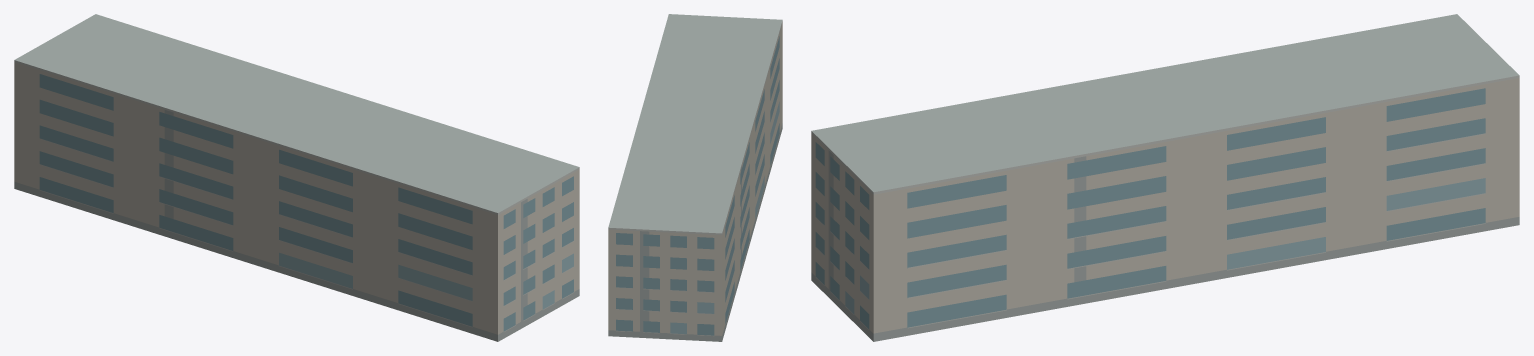
The model's file is residential-d845fbf6-8d2e-4e66-9c41-5f5ade73abd0.glb.
3 renders of one model, left to right at view 1: azimuth 30°, elevation 25°; view 2: azimuth 150°, elevation 25°; view 3: azimuth 270°, elevation 25°, orthographic. The views are drawn at different scales.
Parts seen in each view (by area): view 1: residential-d845fbf6-8d2e-4e66-9c41-5f5ade73abd0.tmp; view 2: residential-d845fbf6-8d2e-4e66-9c41-5f5ade73abd0.tmp; view 3: residential-d845fbf6-8d2e-4e66-9c41-5f5ade73abd0.tmp.
Boxes of the visible parts, x1,y1,x2,y2 form: residential-d845fbf6-8d2e-4e66-9c41-5f5ade73abd0.tmp: (14,14,579,341); residential-d845fbf6-8d2e-4e66-9c41-5f5ade73abd0.tmp: (608,14,782,341); residential-d845fbf6-8d2e-4e66-9c41-5f5ade73abd0.tmp: (811,14,1519,341).
Size of the model in its own units: 38.97 by 15.25 by 65.41.
